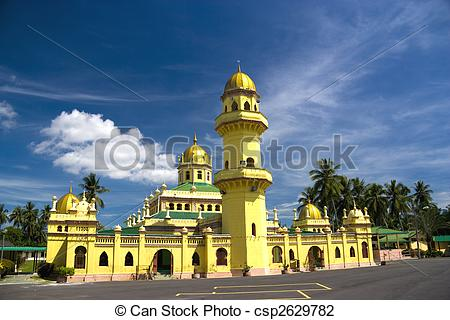Mosque: (69, 61, 356, 270)
